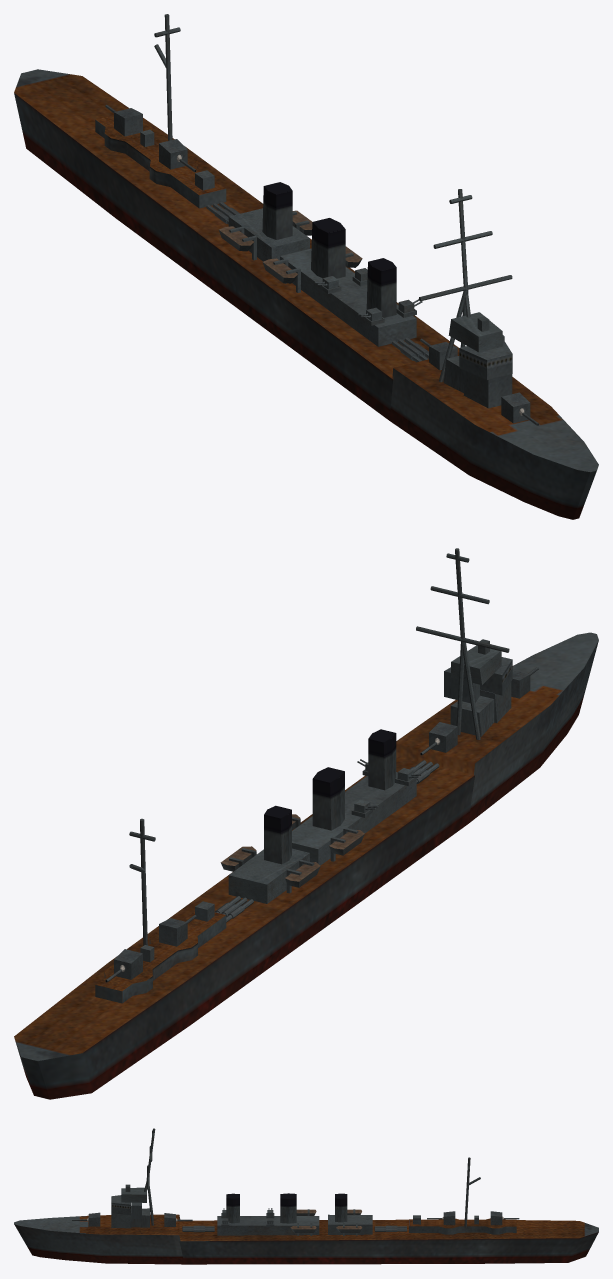
The model's file is tenryu.fbx.
The picture shows the model from 3 angles, top to bottom: view 1: azimuth 30°, elevation 25°; view 2: azimuth 150°, elevation 25°; view 3: azimuth 270°, elevation 25°; orthographic projection. The views are drawn at different scales.
Parts seen in each view (by area): view 1: pPlane2; view 2: pPlane2; view 3: pPlane2.
Part boxes in pixels (x1,y1,x2,y2): pPlane2: (14, 14, 598, 519); pPlane2: (14, 548, 598, 1099); pPlane2: (14, 1128, 598, 1264).
Bounding box in the file's own units: 13.35 × 33.96 × 143.
